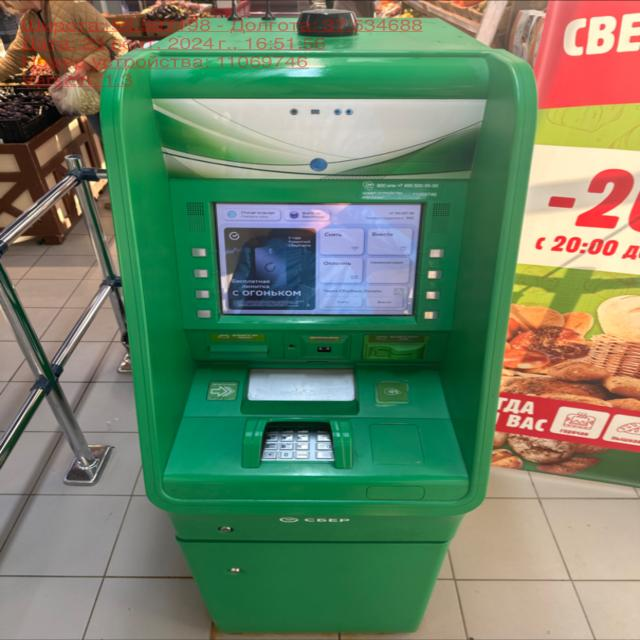bank: (103, 12, 542, 639)
